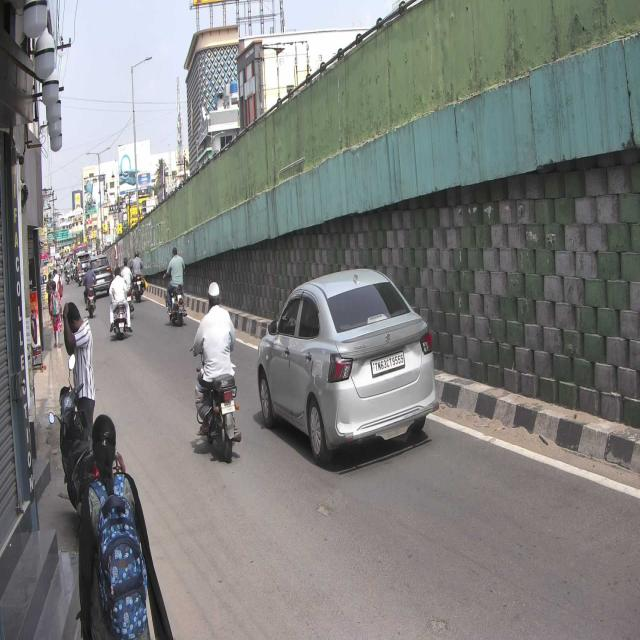single_rider: (190, 279, 244, 463)
